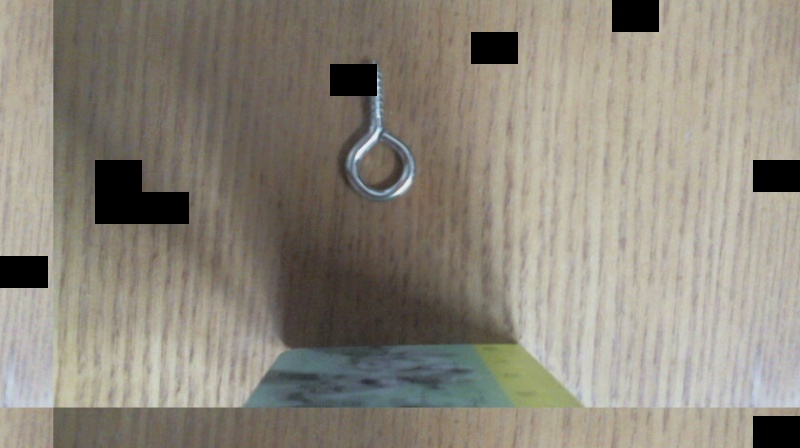O001: (341, 58, 418, 202)
